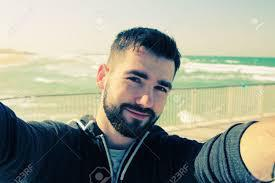face: (104, 50, 175, 135)
